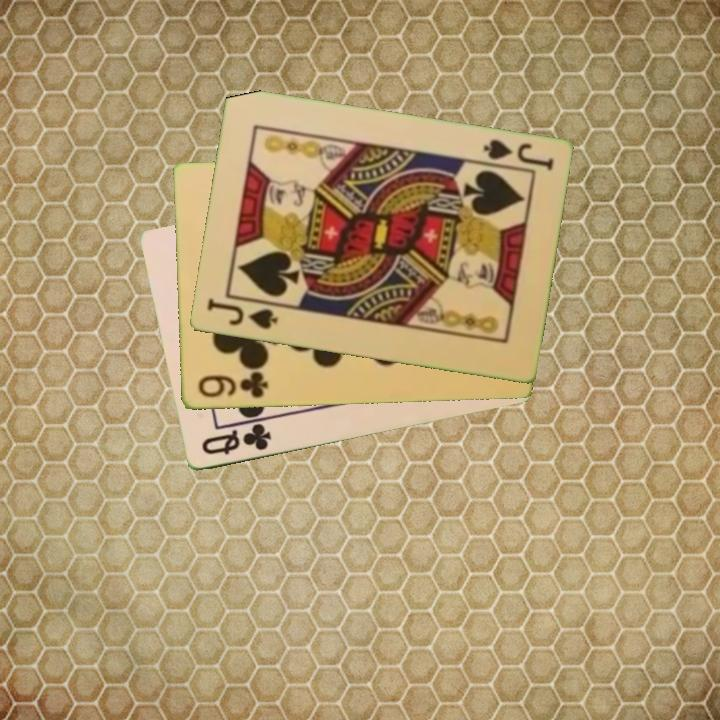9c: (194, 369, 270, 402)
Js: (203, 295, 281, 333), (479, 136, 556, 174)
Qc: (198, 420, 274, 459)
